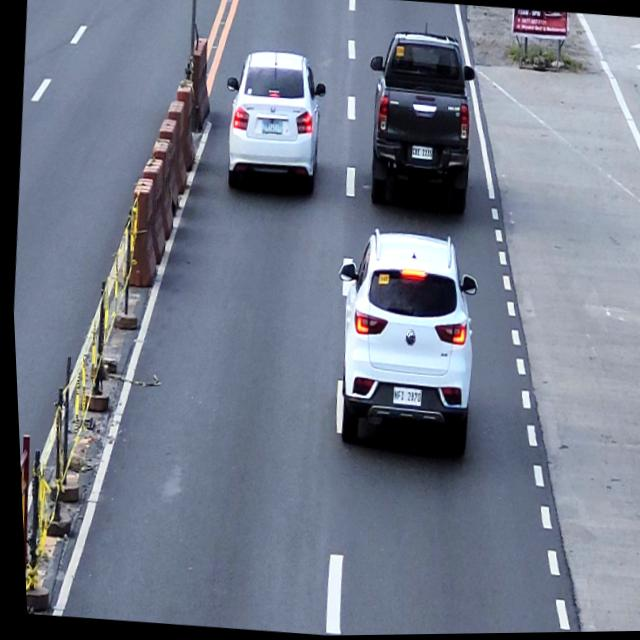Car: (321, 225, 485, 467), (354, 27, 483, 225), (215, 46, 333, 199)
License-Plate: (388, 387, 418, 407), (259, 119, 282, 136), (409, 146, 432, 160)
